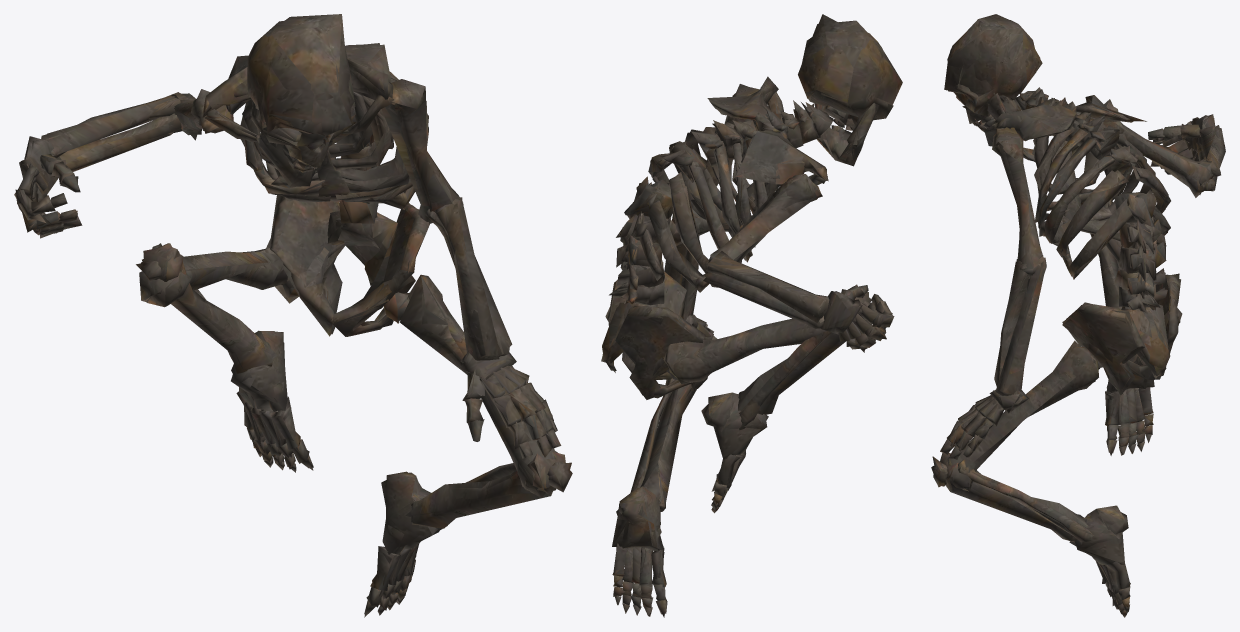
The picture shows the model from 3 angles, left to right: view 1: azimuth 30°, elevation 25°; view 2: azimuth 150°, elevation 25°; view 3: azimuth 270°, elevation 25°; orthographic projection. The views are drawn at different scales.
Parts seen in each view (by area): view 1: SM_DR_Gateway_Skeleton_Corner_02_LOD0; view 2: SM_DR_Gateway_Skeleton_Corner_02_LOD0; view 3: SM_DR_Gateway_Skeleton_Corner_02_LOD0.
Boxes of the visible parts, <box> form: SM_DR_Gateway_Skeleton_Corner_02_LOD0: <box>14,14,572,617</box>; SM_DR_Gateway_Skeleton_Corner_02_LOD0: <box>601,14,902,617</box>; SM_DR_Gateway_Skeleton_Corner_02_LOD0: <box>931,14,1225,617</box>.
Size of the model in its own units: 1.67 by 2.75 by 1.38.
Materials: 1 (1 with a texture image).
